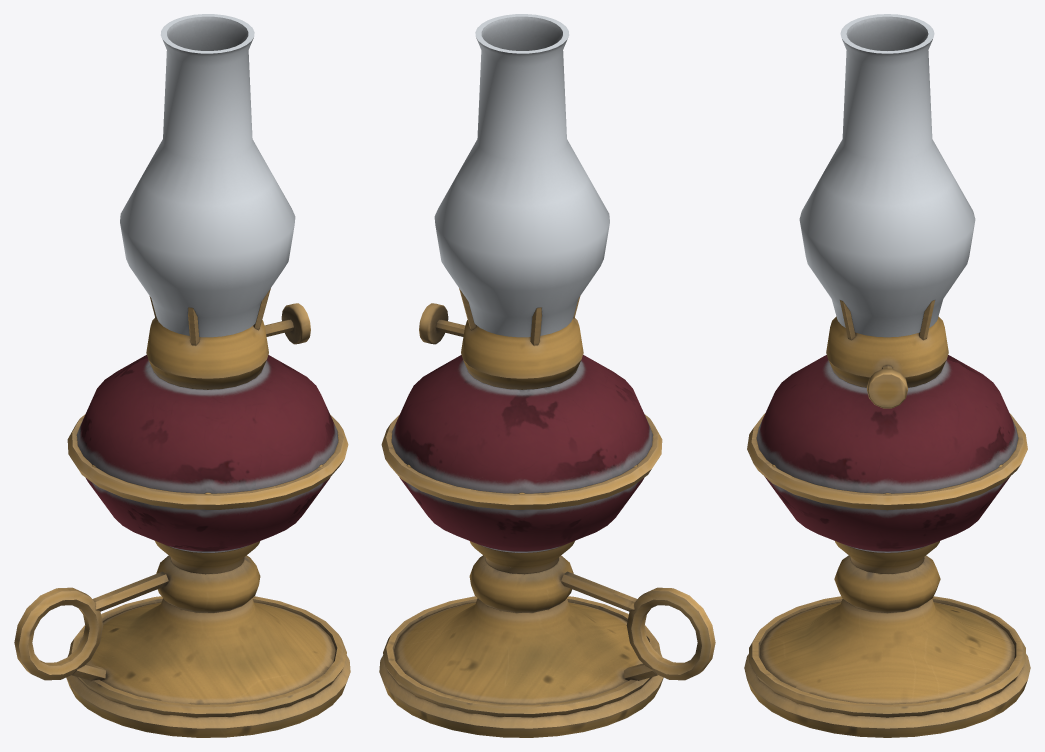
Rendered from OilLamp.fbx.
3 renders of one model, left to right at view 1: azimuth 30°, elevation 25°; view 2: azimuth 150°, elevation 25°; view 3: azimuth 270°, elevation 25°, orthographic.
Parts seen in each view (by area): view 1: OilLamp_Main, OilLamp_Glass; view 2: OilLamp_Main, OilLamp_Glass; view 3: OilLamp_Main, OilLamp_Glass.
Part boxes in pixels (x1,y1,x2,y2): OilLamp_Main: (14,288,350,737); OilLamp_Glass: (120,14,295,337); OilLamp_Main: (379,288,715,737); OilLamp_Glass: (434,14,609,337); OilLamp_Main: (744,300,1030,737); OilLamp_Glass: (799,14,975,337).
Size of the model in its own units: 88.91 by 174 by 70.
